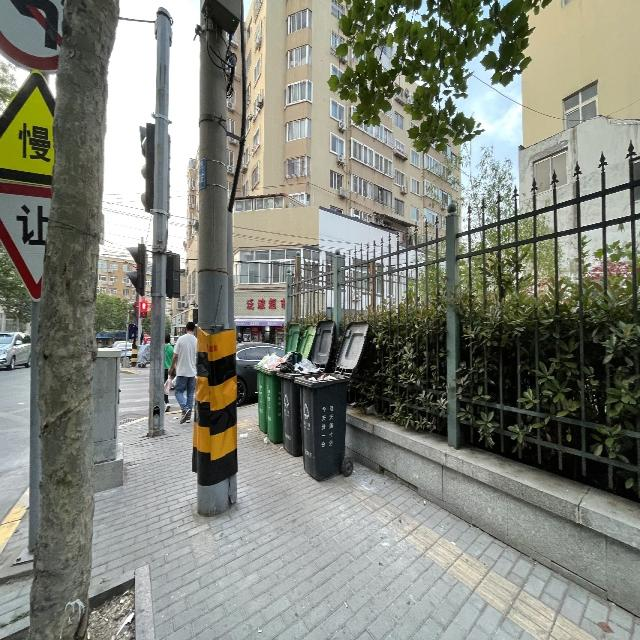overflow: (294, 370, 351, 480), (276, 351, 324, 455), (252, 352, 282, 442)
